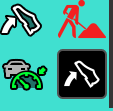ACCELERATOR: (1, 1, 44, 41)
ACCELERATOR_R: (57, 49, 107, 100)
ACC_OVER: (1, 53, 50, 94)
CONSTRUCTION: (53, 1, 109, 43)
